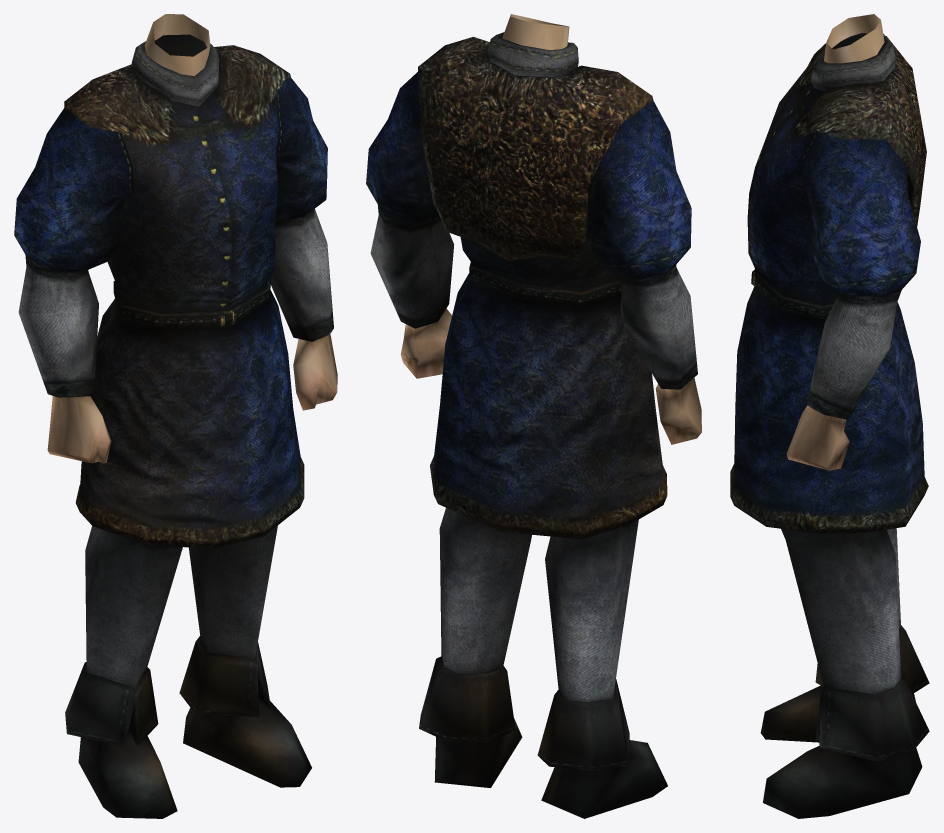
The model's file is KM_RM_NOHAT_02.glb.
3 renders of one model, left to right at view 1: azimuth 30°, elevation 25°; view 2: azimuth 150°, elevation 25°; view 3: azimuth 270°, elevation 25°, orthographic. The views are drawn at different scales.
Visible parts, largest first — view 1: KM_RM_NOHAT_02; view 2: KM_RM_NOHAT_02; view 3: KM_RM_NOHAT_02.
Boxes of the visible parts, x1,y1,x2,y2 form: KM_RM_NOHAT_02: (14, 14, 337, 818); KM_RM_NOHAT_02: (366, 14, 701, 818); KM_RM_NOHAT_02: (730, 14, 929, 818).
Size of the model in its own units: 0.7034 by 1.7 by 0.4101.
2 materials, 2 textured.
